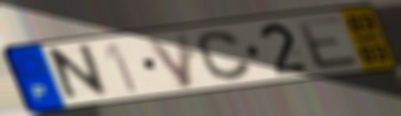1: (102, 39, 141, 96)
2: (259, 21, 311, 77)
C: (194, 29, 256, 83)
E: (293, 13, 364, 72)
N: (48, 41, 113, 105)
V: (141, 29, 194, 91)
